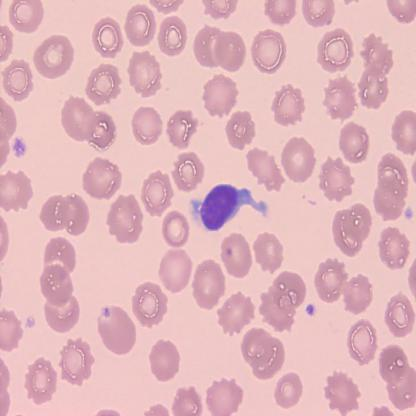Lymphocyte: (190, 182, 268, 233)
